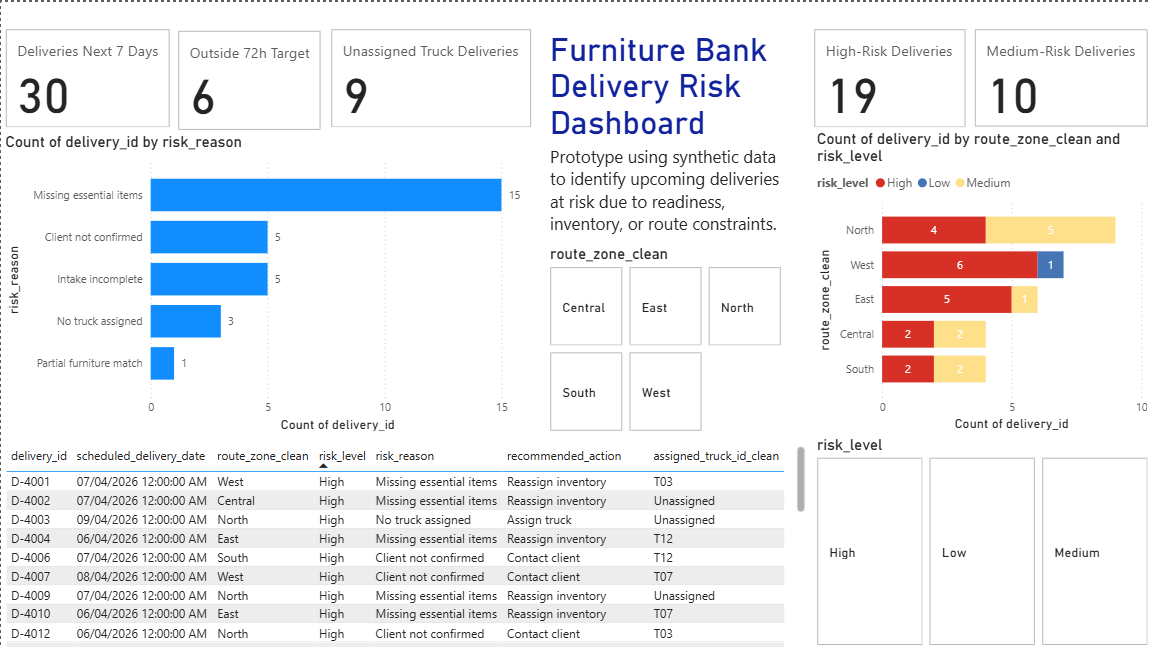

This screenshot's page, from the dashboard's own definition file:
{"tool":"powerbi","page":{"name":"Page 1","canvas":[1280,720],"ordinal":0},"visuals":[{"type":"cardVisual","fields":{"Data":["master_delivery_risk.Deliveries Next 7 Days"]},"box":[0,24.7,192.1,119.4],"z":0},{"type":"cardVisual","fields":{"Data":["master_delivery_risk.High-Risk Deliveries"]},"box":[897.9,24.2,178.7,119.6],"z":1000},{"type":"cardVisual","fields":{"Data":["master_delivery_risk.Medium-Risk Deliveries"]},"box":[1076.6,24.2,202.9,118.1],"z":2000},{"type":"cardVisual","fields":{"Data":["master_delivery_risk.Outside 72h Target"]},"box":[192.1,26.2,168.8,120.8],"z":3000},{"type":"cardVisual","fields":{"Data":["master_delivery_risk.Unassigned Truck Deliveries"]},"box":[361,24.7,232.9,119.4],"z":4000},{"type":"barChart","fields":{"Y":["CountNonNull(master_delivery_risk.delivery_id)"],"Category":["master_delivery_risk.risk_reason"]},"box":[0,145.6,593.9,336.2],"z":5000},{"type":"barChart","fields":{"Category":["master_delivery_risk.route_zone_clean"],"Y":["CountNonNull(master_delivery_risk.delivery_id)"],"Series":["master_delivery_risk.risk_level"]},"box":[902.5,142.3,377,339.2],"z":6000},{"type":"tableEx","fields":{"Values":["master_delivery_risk.delivery_id","master_delivery_risk.scheduled_delivery_date","master_delivery_risk.route_zone_clean","master_delivery_risk.risk_level","master_delivery_risk.risk_reason","master_delivery_risk.recommended_action","master_delivery_risk.assigned_truck_id_clean"]},"box":[0,487.6,898.1,232.9],"z":7000},{"type":"textbox","title":"Furniture Bank Delivery Risk Dashboard","box":[605.7,31.8,268,269.5],"z":8000},{"type":"advancedSlicerVisual","fields":{"Values":["master_delivery_risk.route_zone_clean"]},"box":[605.7,269.5,268,212],"z":9000},{"type":"advancedSlicerVisual","fields":{"Values":["master_delivery_risk.risk_level"]},"box":[902.5,481.5,377,237.7],"z":10000}]}

Visuals, with their boxes in screenshot pixels (x1, y1, x2, y2), scaled from the page's 1280x720 canvas onto the 1152x648 screenshot:
cardVisual - master_delivery_risk.Deliveries Next 7 Days: locate(0, 22, 173, 130)
cardVisual - master_delivery_risk.High-Risk Deliveries: locate(808, 22, 969, 129)
cardVisual - master_delivery_risk.Medium-Risk Deliveries: locate(969, 22, 1151, 128)
cardVisual - master_delivery_risk.Outside 72h Target: locate(173, 24, 325, 132)
cardVisual - master_delivery_risk.Unassigned Truck Deliveries: locate(325, 22, 535, 130)
barChart - CountNonNull(master_delivery_risk.delivery_id) x master_delivery_risk.risk_reason: locate(0, 131, 535, 434)
barChart - master_delivery_risk.route_zone_clean x CountNonNull(master_delivery_risk.delivery_id): locate(812, 128, 1151, 433)
tableEx - master_delivery_risk.delivery_id x master_delivery_risk.scheduled_delivery_date: locate(0, 439, 808, 647)
"Furniture Bank Delivery Risk Dashboard" textbox: locate(545, 29, 786, 271)
advancedSlicerVisual - master_delivery_risk.route_zone_clean: locate(545, 243, 786, 433)
advancedSlicerVisual - master_delivery_risk.risk_level: locate(812, 433, 1151, 647)
